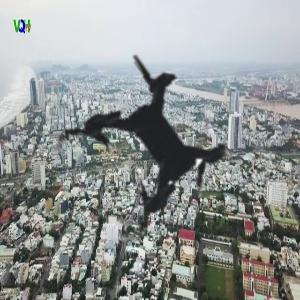drone: (3, 2, 299, 298)
